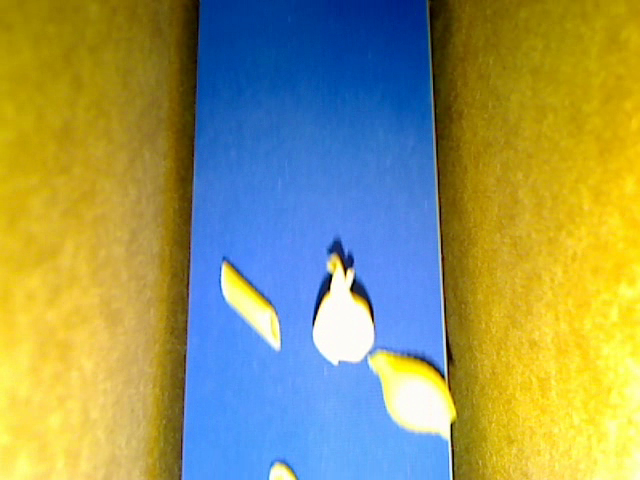penne: (221, 258, 282, 350)
shell: (366, 349, 458, 438)
